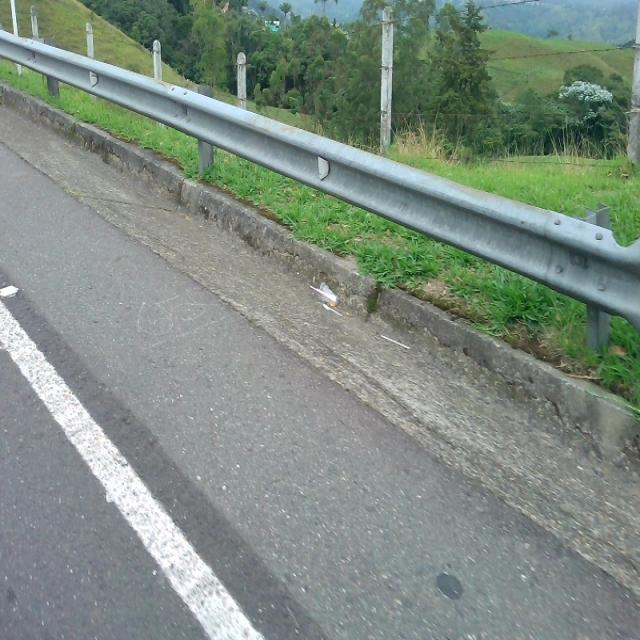DITCH: (1, 14, 638, 638), (1, 25, 638, 638), (1, 82, 639, 637)
